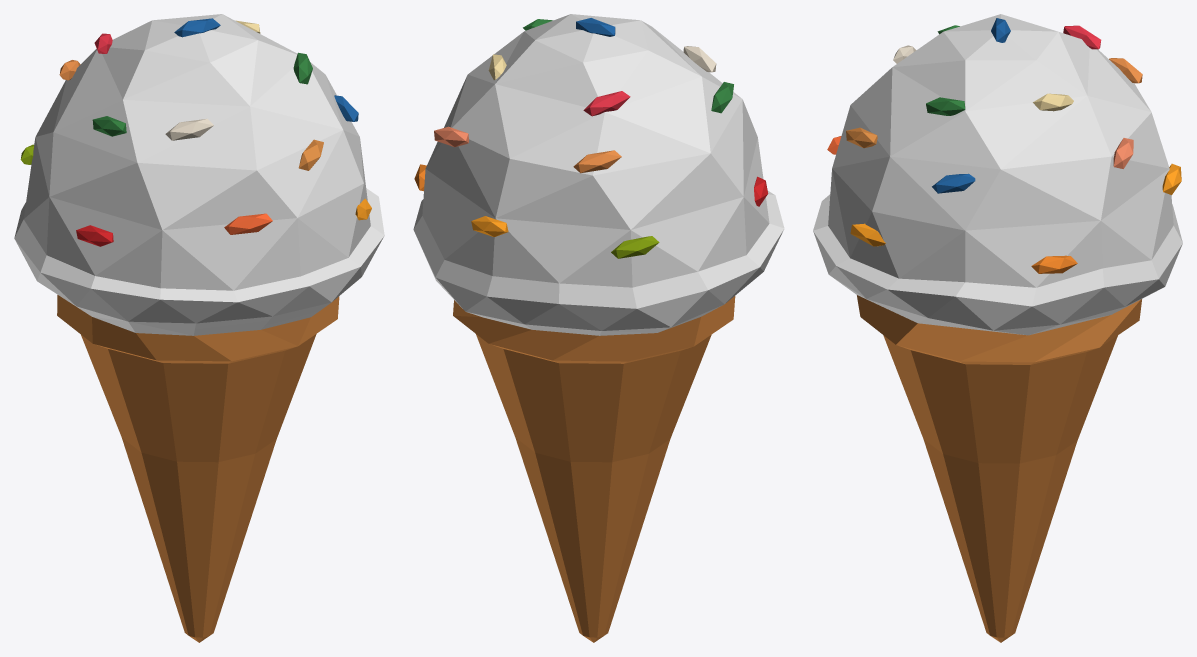
The model's file is Ice_Cream_Sprinkles.fbx.
3 views of the same model, side by side, from view 1: azimuth 30°, elevation 25°; view 2: azimuth 150°, elevation 25°; view 3: azimuth 270°, elevation 25° (orthographic).
Visible parts, largest first — view 1: Ice_Cream_Sprinkles; view 2: Ice_Cream_Sprinkles; view 3: Ice_Cream_Sprinkles.
Boxes of the visible parts, <box> form: Ice_Cream_Sprinkles: <box>14,14,384,642</box>; Ice_Cream_Sprinkles: <box>413,14,784,642</box>; Ice_Cream_Sprinkles: <box>813,14,1182,642</box>.
Bounding box in the file's own units: 8.67 × 16.15 × 8.75.
